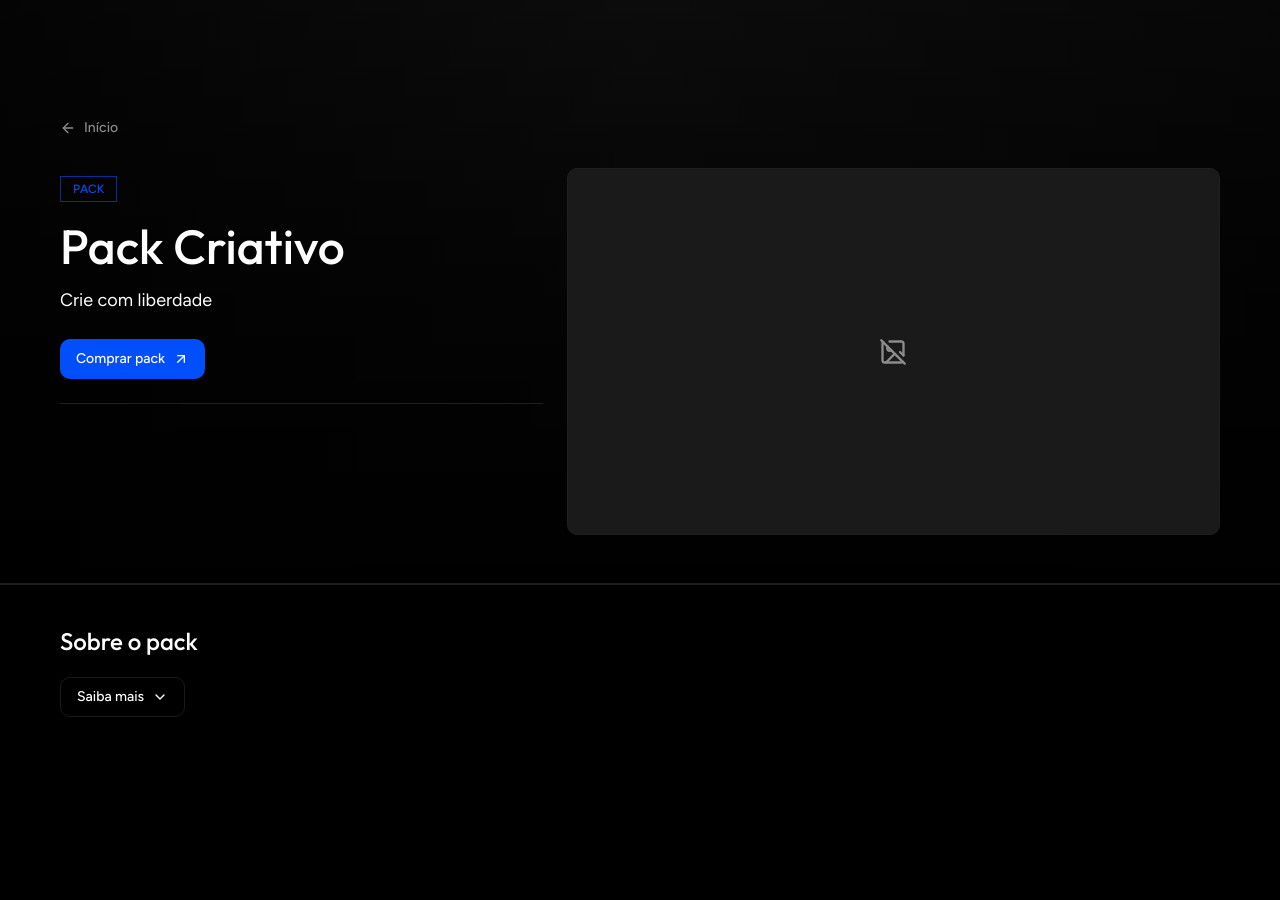
it: apresentação dos Packs › mantém a descrição longa fora do topo e a expande em Saiba mais
This screenshot has width=1280, height=900.
Expected: the heading "Pack Criativo" is shown, 60,216 -> 345,276
Expected: the text "Crie com liberdade" is shown, 60,289 -> 212,311
Click the button with aria-label "Saiba mais sobre o pack" at (123, 697), box 60,677 -> 185,717
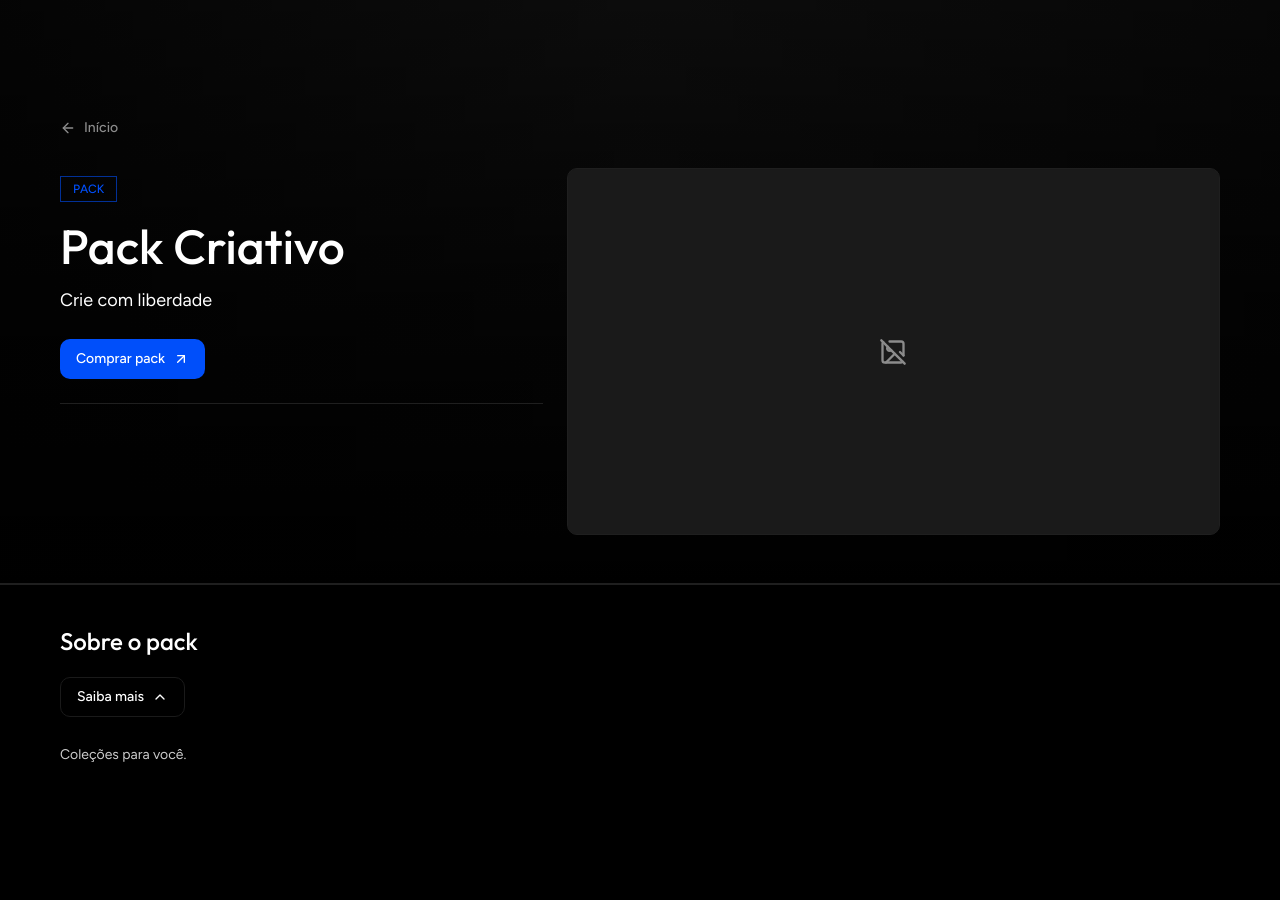
Now the text "Coleções para você." is shown, box 60,746 -> 186,763
